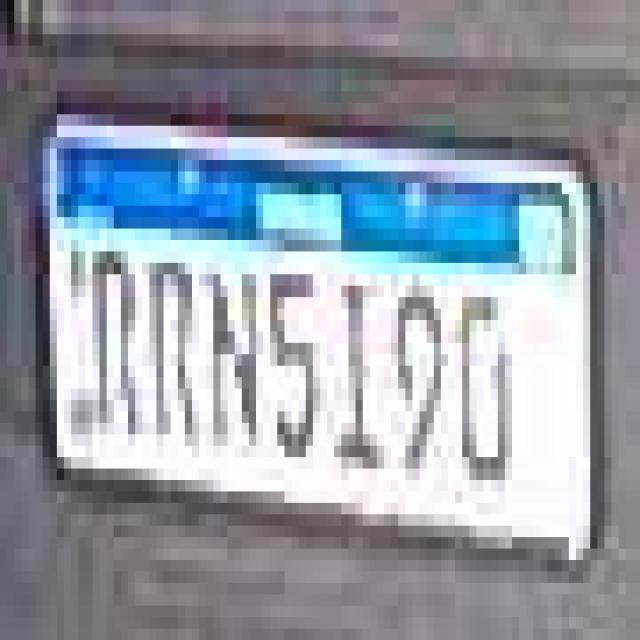0: (454, 289, 524, 478)
5: (266, 263, 319, 457)
9: (389, 277, 450, 485)
I: (330, 274, 384, 471)
N: (204, 266, 262, 446)
R: (142, 249, 200, 440), (92, 244, 142, 433)
